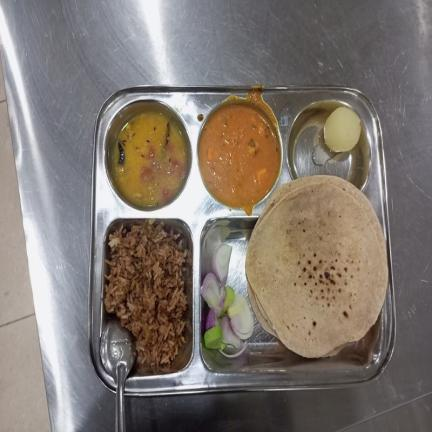Chana Dal: (113, 110, 187, 207)
Chhaina: (323, 107, 362, 152)
Fried Rice: (104, 220, 189, 366)
Paneer: (199, 104, 281, 207)
Plate: (88, 86, 397, 397)
Roti: (244, 174, 388, 358)
Salad: (200, 244, 254, 359)
